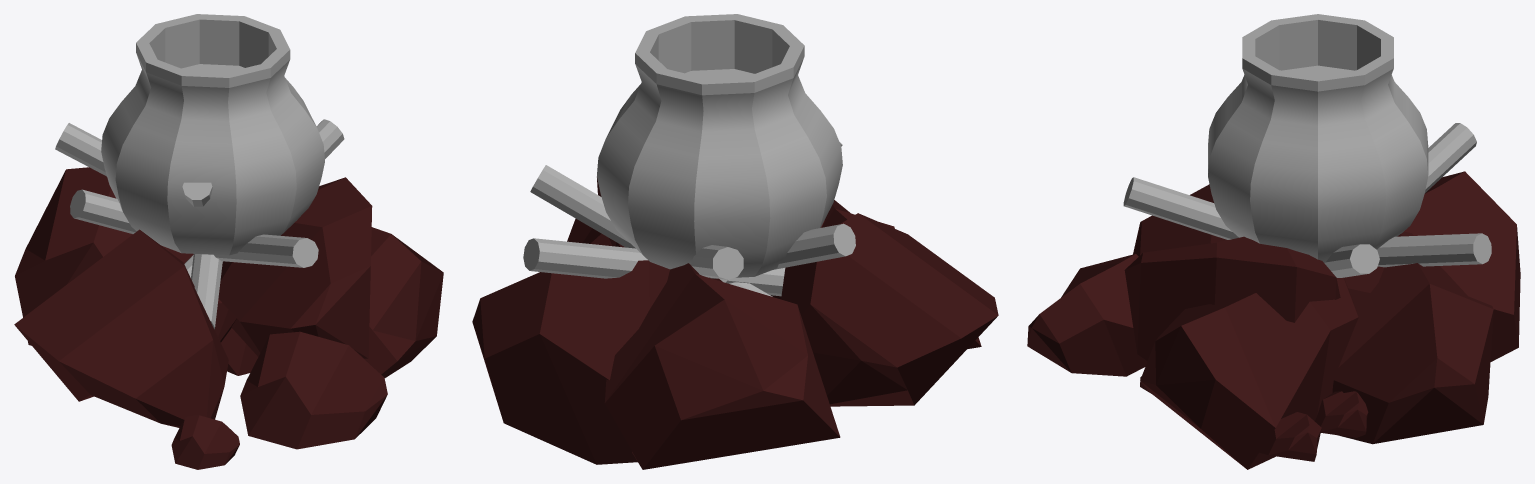
File: camp_fire.fbx
3 views of the same model, side by side, from view 1: azimuth 30°, elevation 25°; view 2: azimuth 150°, elevation 25°; view 3: azimuth 270°, elevation 25° (orthographic). The views are drawn at different scales.
Parts seen in each view (by area): view 1: pCylinder13, pSphere12, pSphere1, pSphere5, pSphere16, pSphere4, pSphere14, pCylinder7, pCylinder10, pCylinder12, pCylinder8, pSphere17 (+2 smaller); view 2: pCylinder13, pSphere4, pSphere12, pSphere17, pCylinder12, pCylinder9, pCylinder10, pCylinder8, pSphere16; view 3: pCylinder13, pSphere16, pSphere17, pSphere1, pSphere4, pSphere5, pCylinder12, pCylinder7, pSphere12, pSphere19, pSphere18, pCylinder8 (+1 smaller).
Boxes of the visible parts, x1,y1,x2,y2 form: pCylinder13: [101, 14, 324, 255]; pSphere12: [14, 229, 228, 427]; pSphere1: [218, 177, 372, 358]; pSphere5: [240, 331, 387, 449]; pSphere16: [231, 227, 443, 377]; pSphere4: [15, 167, 236, 345]; pSphere14: [171, 415, 239, 469]; pCylinder7: [214, 234, 318, 267]; pCylinder10: [70, 189, 136, 233]; pCylinder12: [191, 254, 222, 329]; pCylinder8: [55, 123, 106, 176]; pSphere17: [221, 328, 258, 375]; pCylinder13: [597, 14, 842, 278]; pSphere4: [604, 263, 840, 469]; pSphere12: [781, 213, 998, 406]; pSphere17: [472, 260, 669, 464]; pCylinder12: [523, 238, 785, 296]; pCylinder9: [530, 165, 772, 296]; pCylinder10: [773, 223, 855, 269]; pCylinder8: [691, 245, 743, 279]; pSphere16: [567, 218, 611, 245]; pCylinder13: [1208, 14, 1428, 262]; pSphere16: [1140, 277, 1358, 469]; pSphere17: [1332, 231, 1493, 444]; pSphere1: [1124, 236, 1340, 360]; pSphere4: [1344, 171, 1520, 362]; pSphere5: [1027, 254, 1147, 376]; pCylinder12: [1377, 233, 1491, 267]; pCylinder7: [1123, 177, 1238, 239]; pSphere12: [1133, 184, 1227, 256]; pSphere19: [1259, 412, 1321, 461]; pSphere18: [1314, 391, 1368, 437]; pCylinder8: [1425, 123, 1476, 192].
Size of the model in its own units: 20.43 by 15.8 by 20.75.
